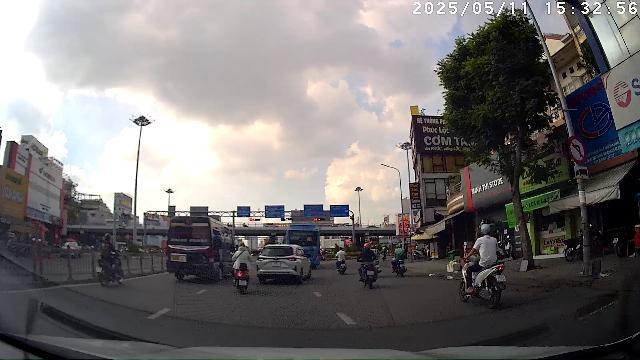123a-cam-re-trai: (567, 135, 587, 164)
